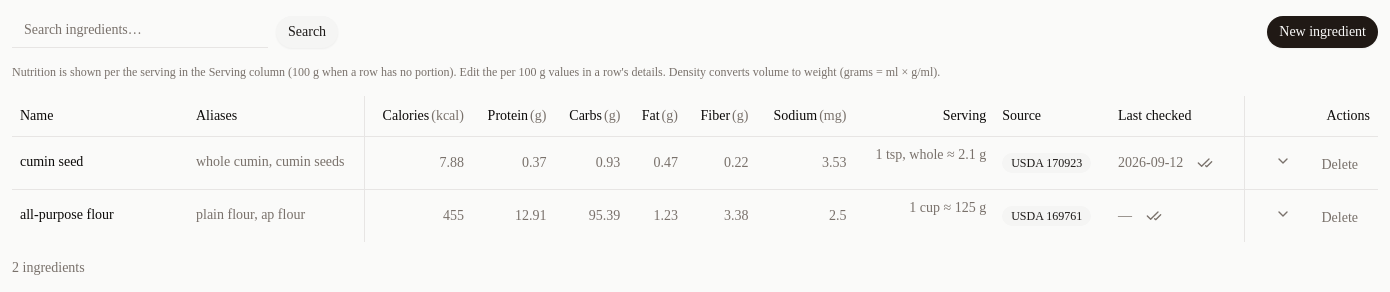
Test: IngredientsTable › stamps last_checked with the current time from the Mark checked button
Click the button named "Mark all-purpose flour checked" at (1154, 216), box [1136,200,1172,232]
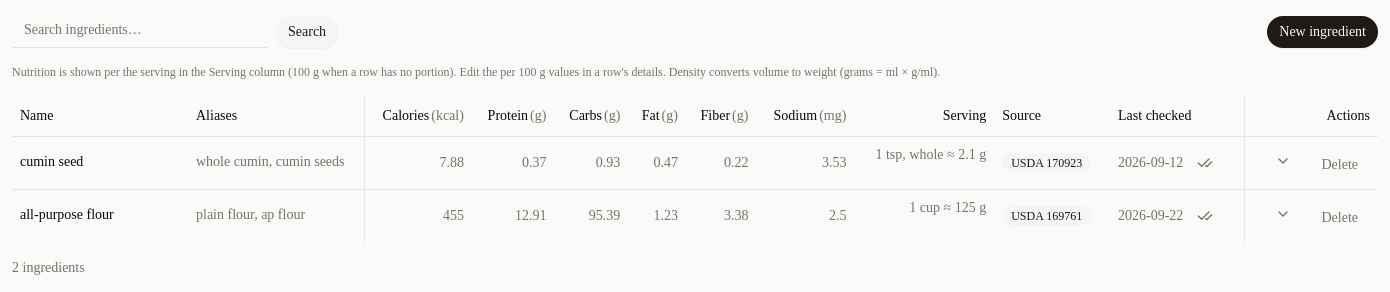
Check: the text "2026-09-22" is shown, box [1118,200,1223,232]
